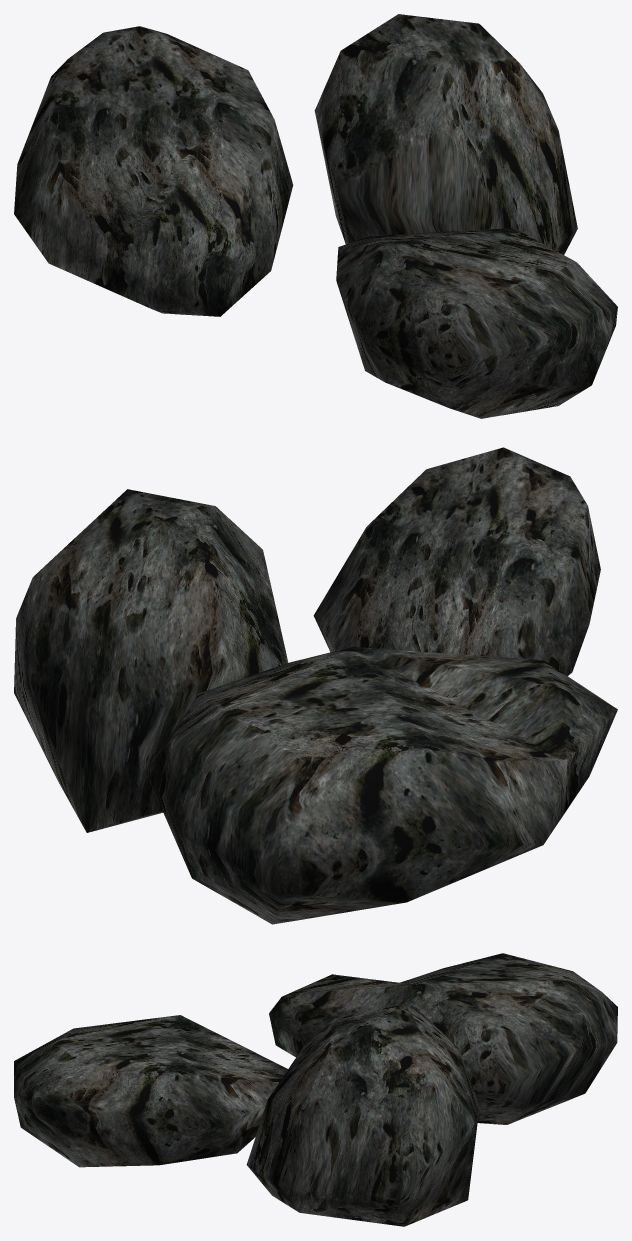
Rendered from rock_scorched_medium_l1.fbx.
3 renders of one model, top to bottom at view 1: azimuth 30°, elevation 25°; view 2: azimuth 150°, elevation 25°; view 3: azimuth 270°, elevation 25°, orthographic. The views are drawn at different scales.
Visible parts, largest first — view 1: mesh_node; view 2: mesh_node; view 3: mesh_node.
Boxes of the visible parts, <box> form: mesh_node: <box>14,14,617,418</box>; mesh_node: <box>14,447,617,924</box>; mesh_node: <box>14,953,617,1226</box>.
Size of the model in its own units: 5.71 by 2.86 by 8.08.
1 material, 1 textured.
